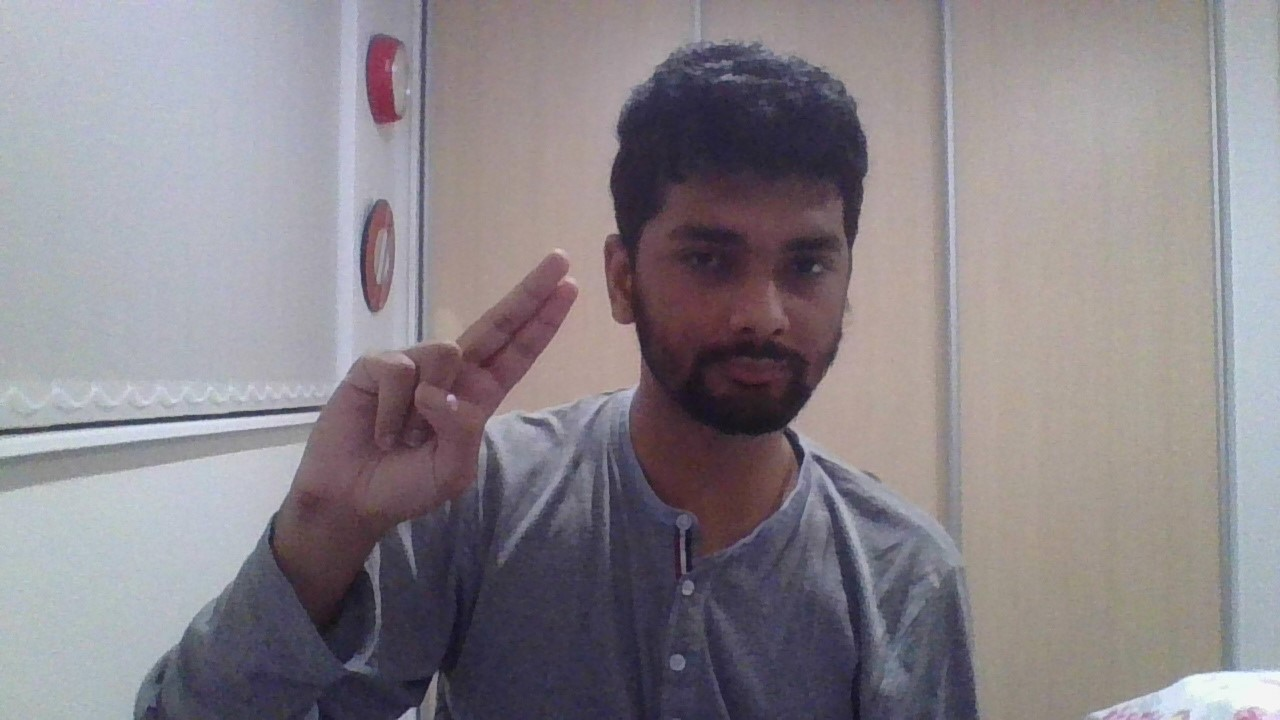peace: (298, 249, 578, 522)
